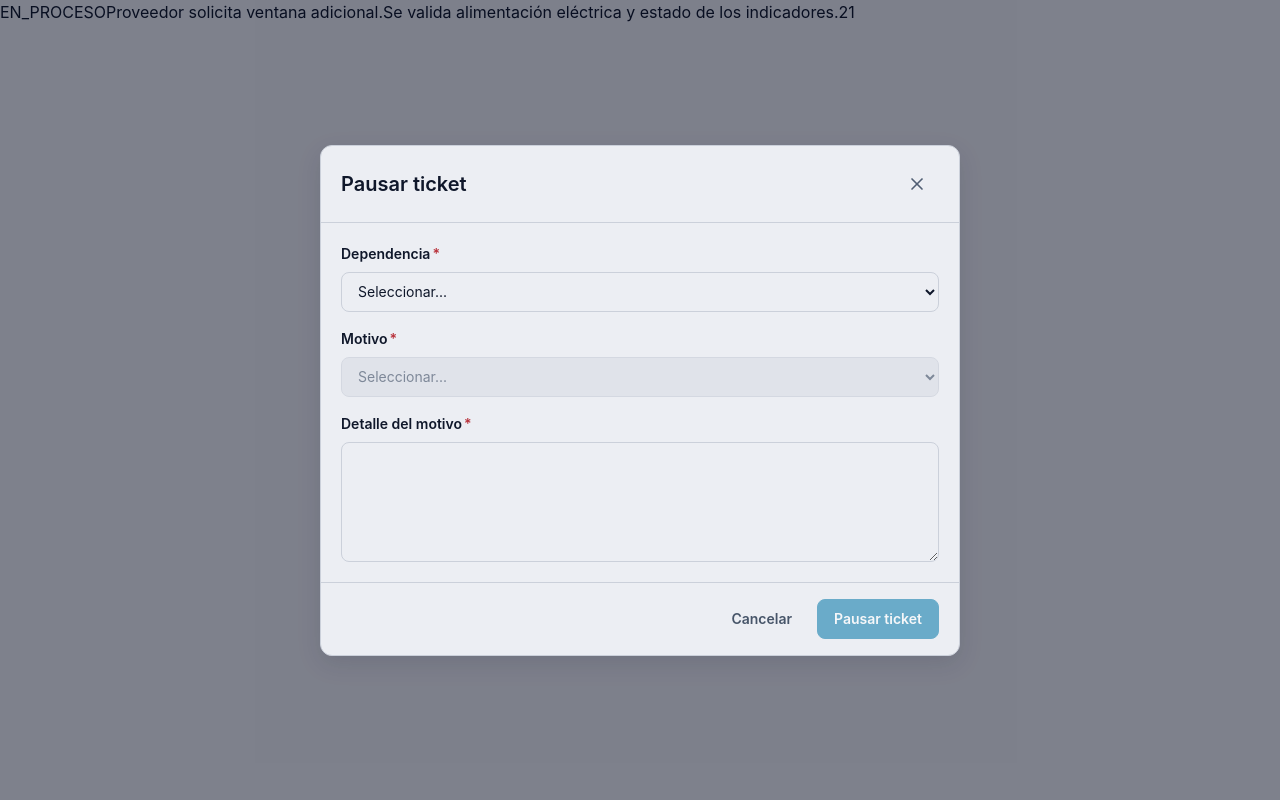
TaskbarActionDialog › pauses the shared ticket and records its reason
Select "Cliente" in the dropdown labelled "Dependencia". click: (640, 292)
box: [341,272,939,312]
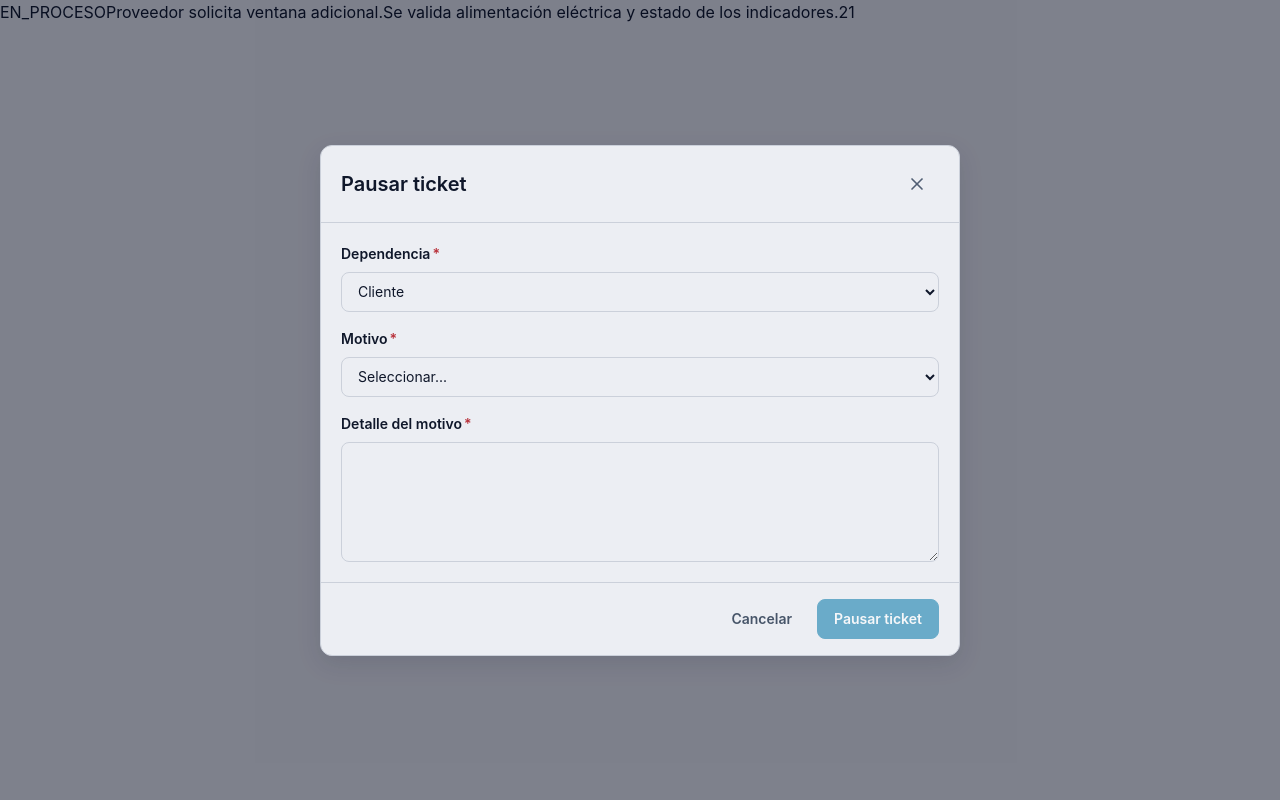
Select "Sin acceso al sitio" in the dropdown labelled "Motivo". click: (640, 376)
box: [341,356,939,396]
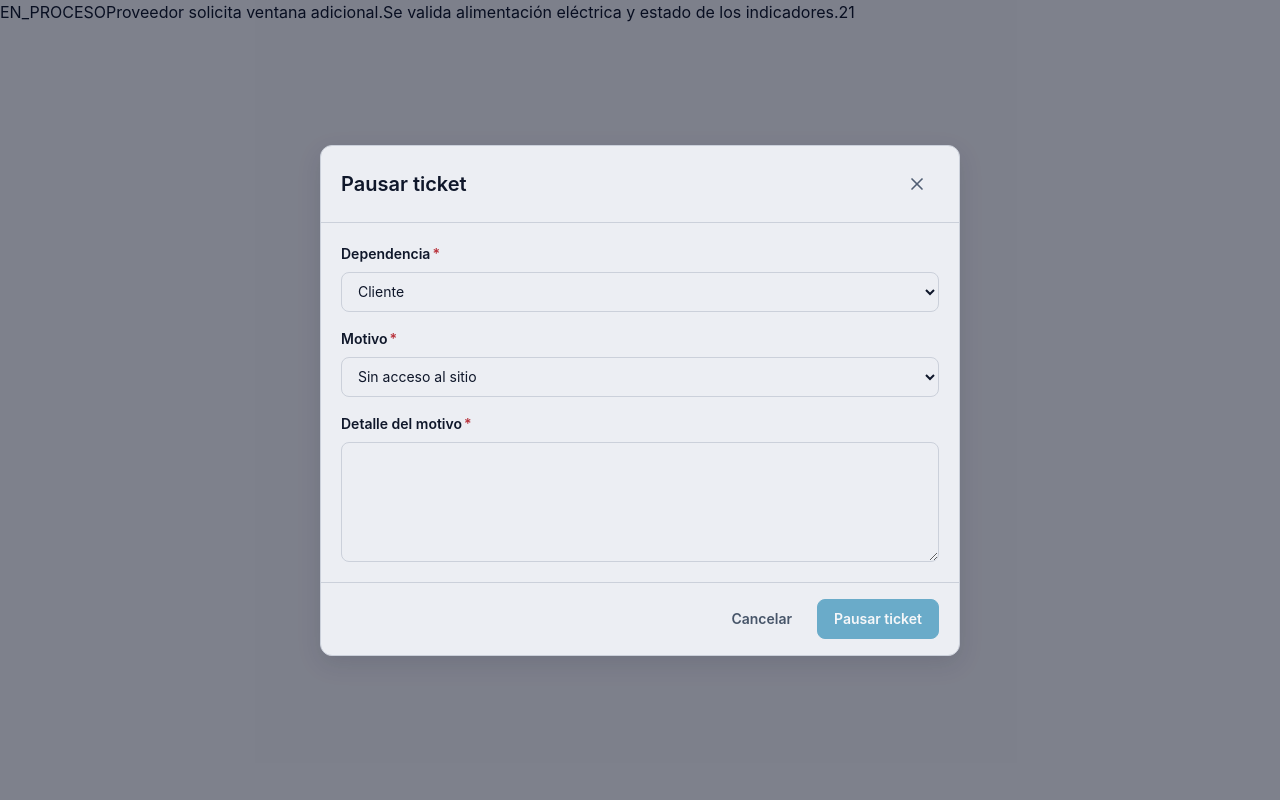
Type "Esperando acceso al sitio" into the text box labelled "Detalle del motivo". click: (640, 502)
box: [341,442,939,562]
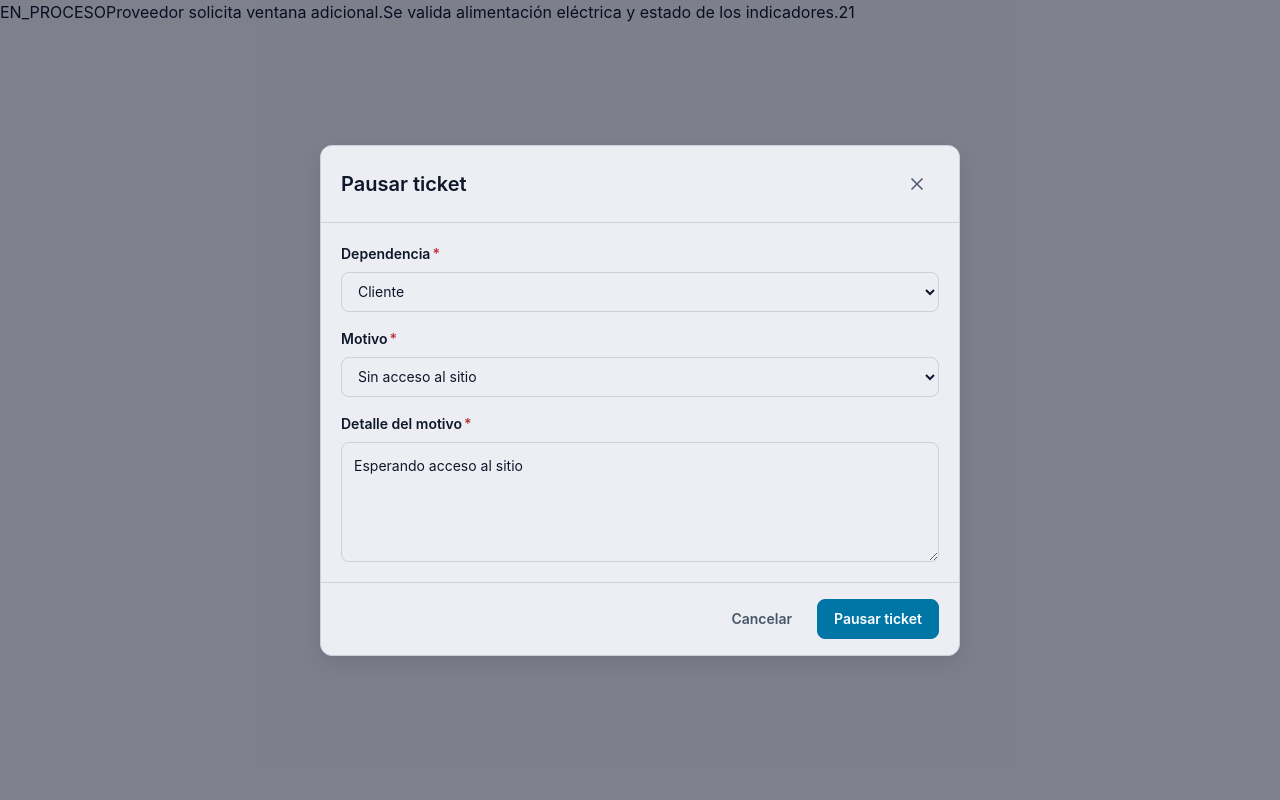
Click the button "Pausar ticket". click: (878, 618)
box: [817,598,939,638]
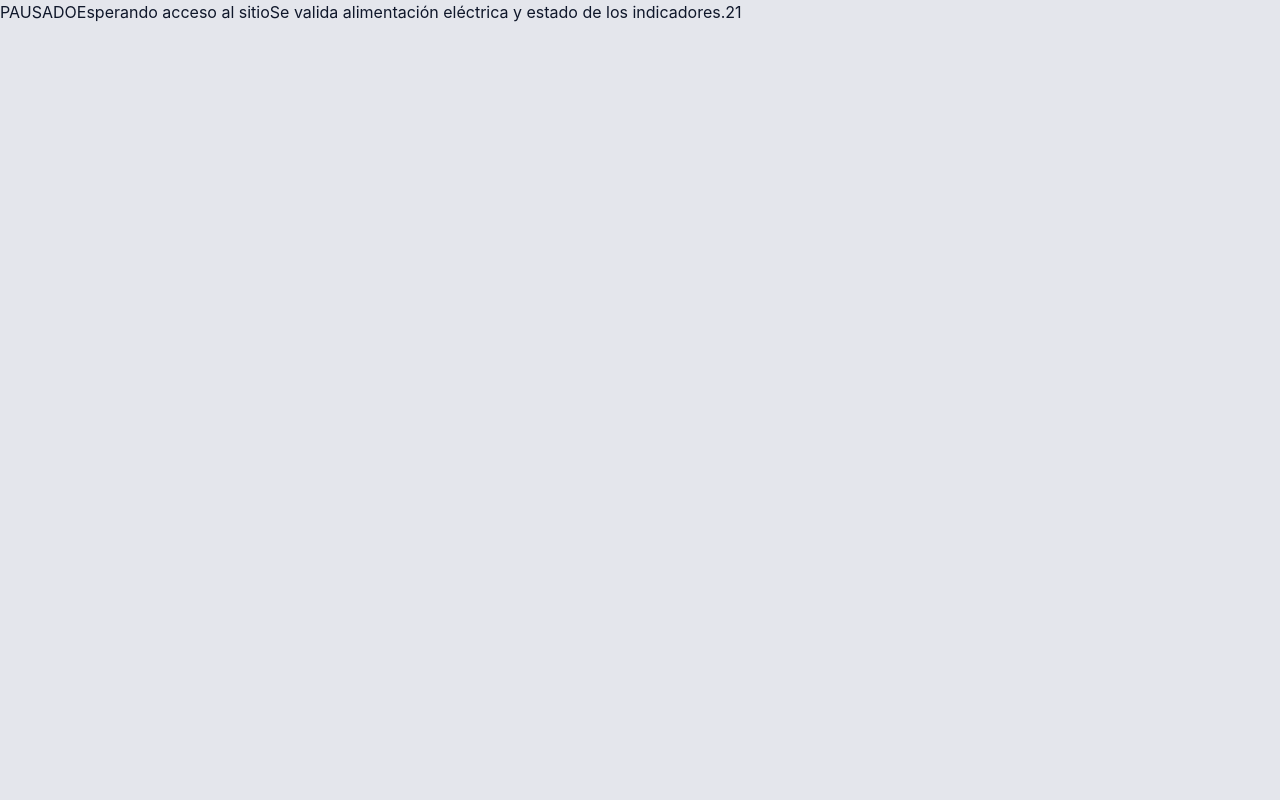
Expected: the text with test id "workspace-status" reads "PAUSADO", [0,2,77,22]
Expected: the text with test id "latest-pause" reads "Esperando acceso al sitio", [77,2,270,22]
